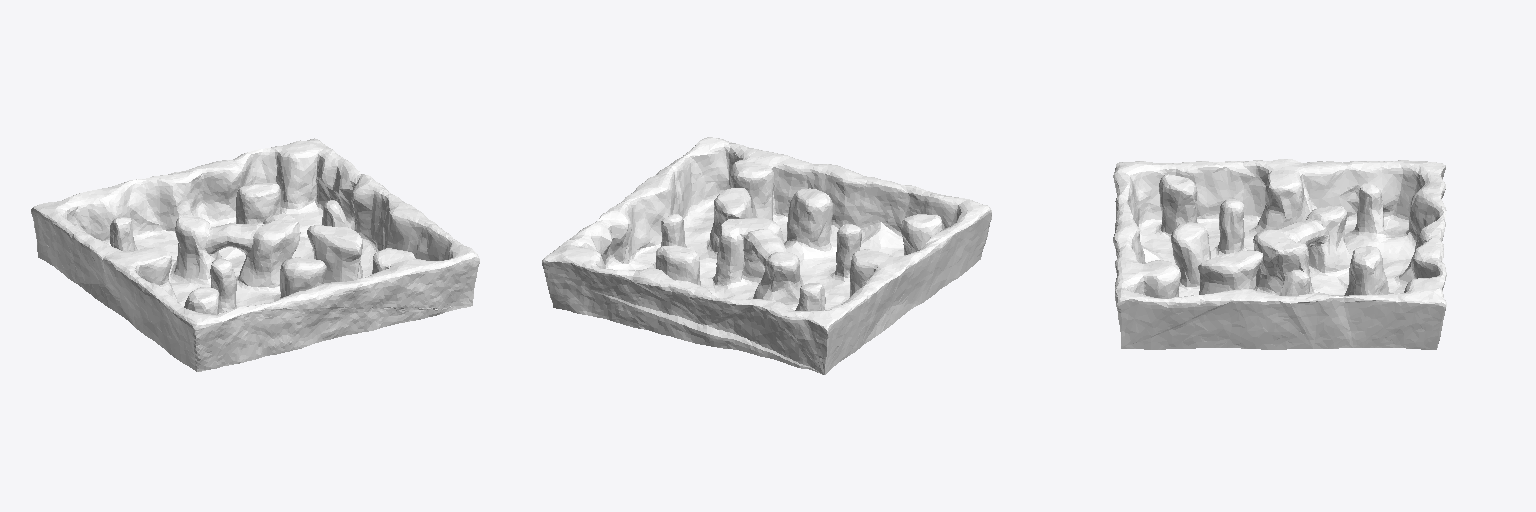
Rendered from terrain.obj.
3 renders of one model, left to right at view 1: azimuth 30°, elevation 25°; view 2: azimuth 150°, elevation 25°; view 3: azimuth 270°, elevation 25°, orthographic.
Visible parts, largest first — view 1: terrain; view 2: terrain; view 3: terrain.
Part boxes in pixels (left/top/right/bottom): terrain: left=31, top=138, right=479, bottom=371; terrain: left=542, top=137, right=991, bottom=374; terrain: left=1113, top=159, right=1446, bottom=349.
Size of the model in its own units: 661 by 129 by 665.